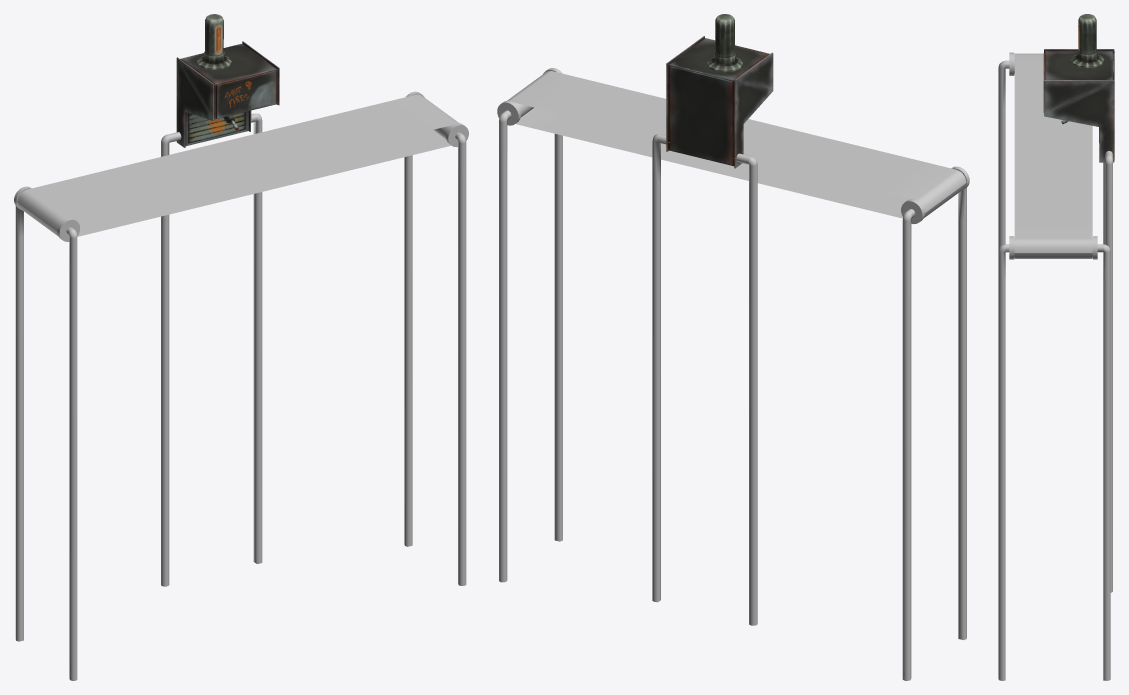
Rendered from esteira.fbx.
The picture shows the model from 3 angles, left to right: view 1: azimuth 30°, elevation 25°; view 2: azimuth 150°, elevation 25°; view 3: azimuth 270°, elevation 25°; orthographic projection. The views are drawn at different scales.
Parts seen in each view (by area): view 1: Esteira, polySurface352, polySurface351, polySurface349; view 2: Esteira, polySurface352, polySurface351, polySurface349; view 3: Esteira, polySurface352, polySurface349.
Part boxes in pixels (x1,y1,x2,y2): Esteira: (14,91,468,680); polySurface352: (180,41,279,145); polySurface351: (176,57,214,147); polySurface349: (197,14,231,69); Esteira: (497,68,969,680); polySurface352: (666,36,769,166); polySurface351: (734,52,773,168); polySurface349: (707,14,742,72); Esteira: (998,52,1112,680); polySurface352: (1043,51,1114,162); polySurface349: (1071,14,1104,68).
Bounding box in the file's own units: 0.1761 × 0.2407 × 0.0447.
